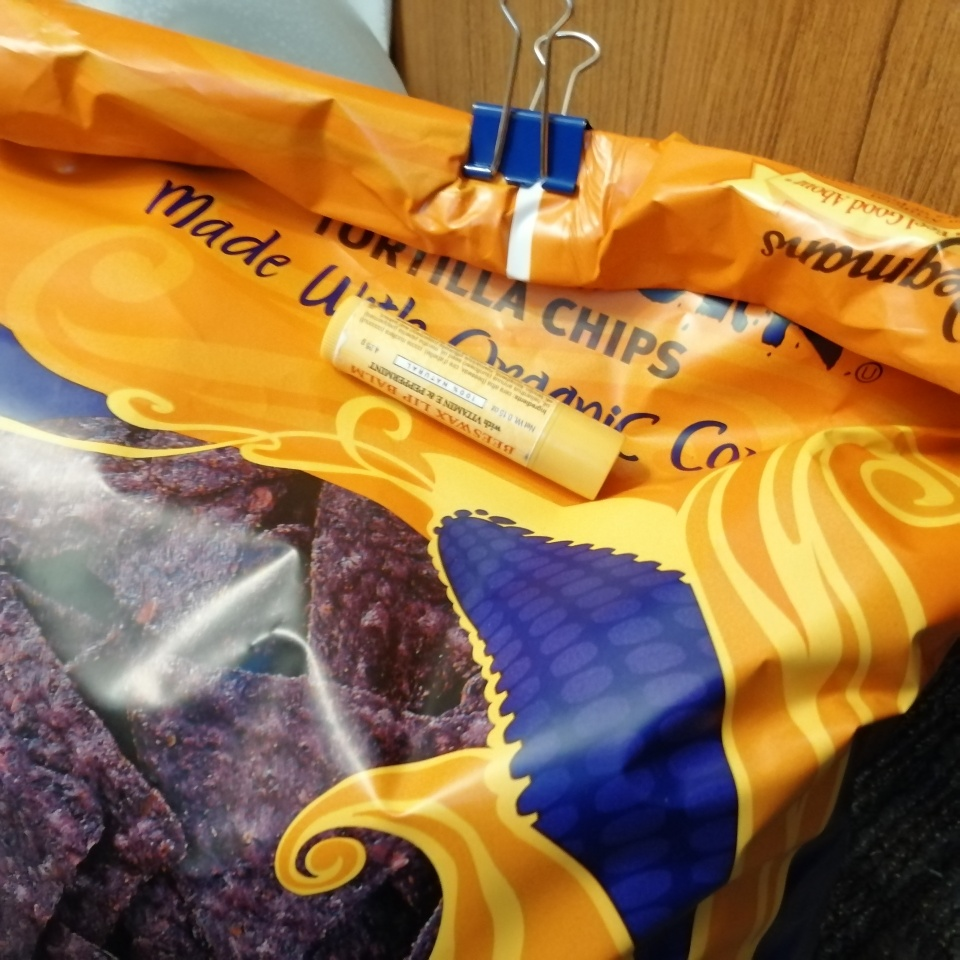chapstick: (319, 294, 626, 503)
